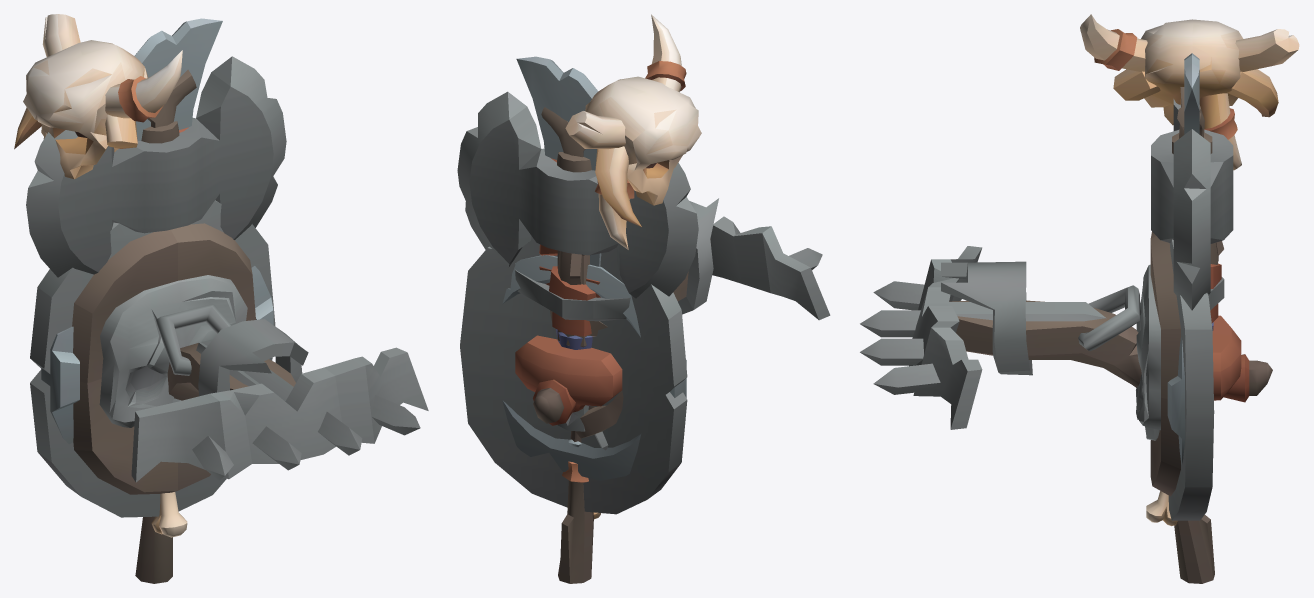
The model's file is skeleton_items.glb.
3 renders of one model, left to right at view 1: azimuth 30°, elevation 25°; view 2: azimuth 150°, elevation 25°; view 3: azimuth 270°, elevation 25°, orthographic. The views are drawn at different scales.
Parts seen in each view (by area): view 1: Skeleton_Shield_Large_A, Skeleton_Crossbow, Skeleton_Axe, Skeleton_Staff, Skeleton_Blade, Skeleton_Shield_Small_A; view 2: Skeleton_Shield_Large_A, Skeleton_Axe, Skeleton_Staff, Skeleton_Crossbow, Skeleton_Blade, Skeleton_Shield_Small_A; view 3: Skeleton_Crossbow, Skeleton_Staff, Skeleton_Shield_Large_A, Skeleton_Axe, Skeleton_Blade, Skeleton_Shield_Small_A.
Part boxes in pixels (bbox=[...]): Skeleton_Shield_Large_A: bbox=[30, 200, 275, 517]; Skeleton_Crossbow: bbox=[131, 304, 428, 482]; Skeleton_Axe: bbox=[26, 56, 286, 277]; Skeleton_Staff: bbox=[14, 14, 196, 583]; Skeleton_Blade: bbox=[134, 18, 222, 140]; Skeleton_Shield_Small_A: bbox=[41, 266, 273, 444]; Skeleton_Shield_Large_A: bbox=[460, 236, 687, 514]; Skeleton_Axe: bbox=[457, 91, 698, 431]; Skeleton_Staff: bbox=[541, 14, 701, 583]; Skeleton_Crossbow: bbox=[533, 198, 830, 425]; Skeleton_Blade: bbox=[515, 56, 630, 450]; Skeleton_Shield_Small_A: bbox=[502, 255, 686, 480]; Skeleton_Crossbow: bbox=[860, 246, 1272, 429]; Skeleton_Staff: bbox=[1080, 14, 1299, 583]; Skeleton_Shield_Large_A: bbox=[1136, 231, 1241, 520]; Skeleton_Axe: bbox=[1151, 99, 1233, 330]; Skeleton_Blade: bbox=[1184, 53, 1224, 310]; Skeleton_Shield_Small_A: bbox=[1167, 337, 1185, 464].
Bounding box in the file's own units: 1.11 × 2.1 × 1.51.
1 material, 1 textured.
